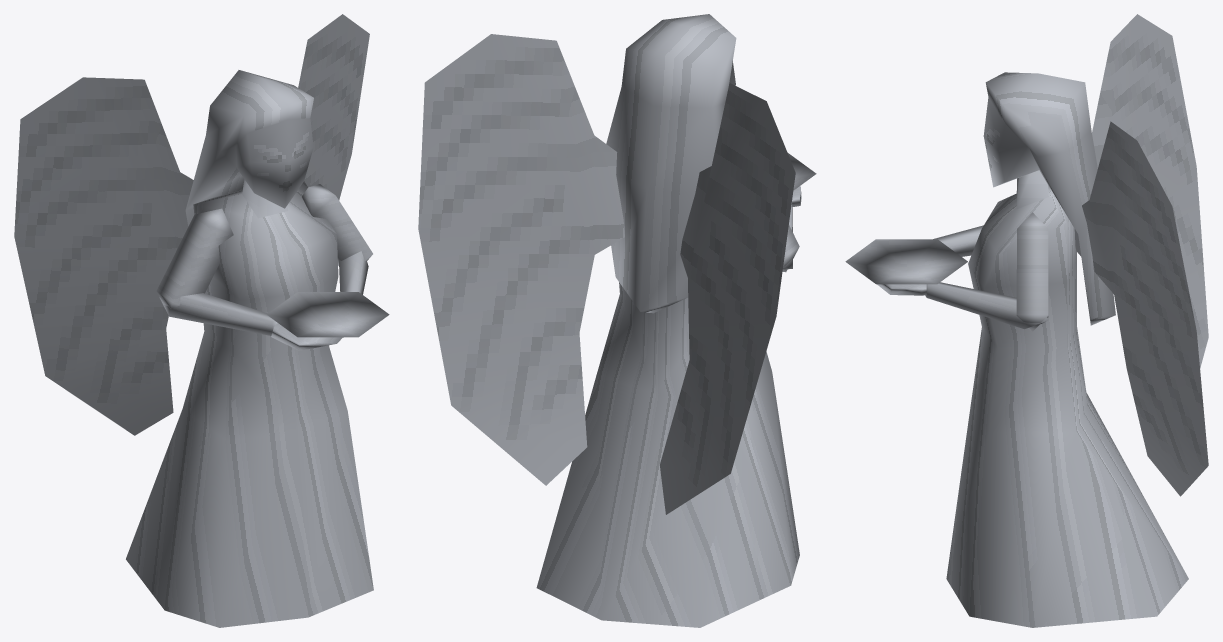
File: Angle.fbx
3 renders of one model, left to right at view 1: azimuth 30°, elevation 25°; view 2: azimuth 150°, elevation 25°; view 3: azimuth 270°, elevation 25°, orthographic. The views are drawn at different scales.
Visible parts, largest first — view 1: Angle; view 2: Angle; view 3: Angle.
Boxes of the visible parts, <box> form: Angle: <box>14,14,389,627</box>; Angle: <box>418,14,816,627</box>; Angle: <box>845,14,1208,627</box>.
Size of the model in its own units: 4.81 by 6.65 by 4.33.
4 materials, 4 textured.
